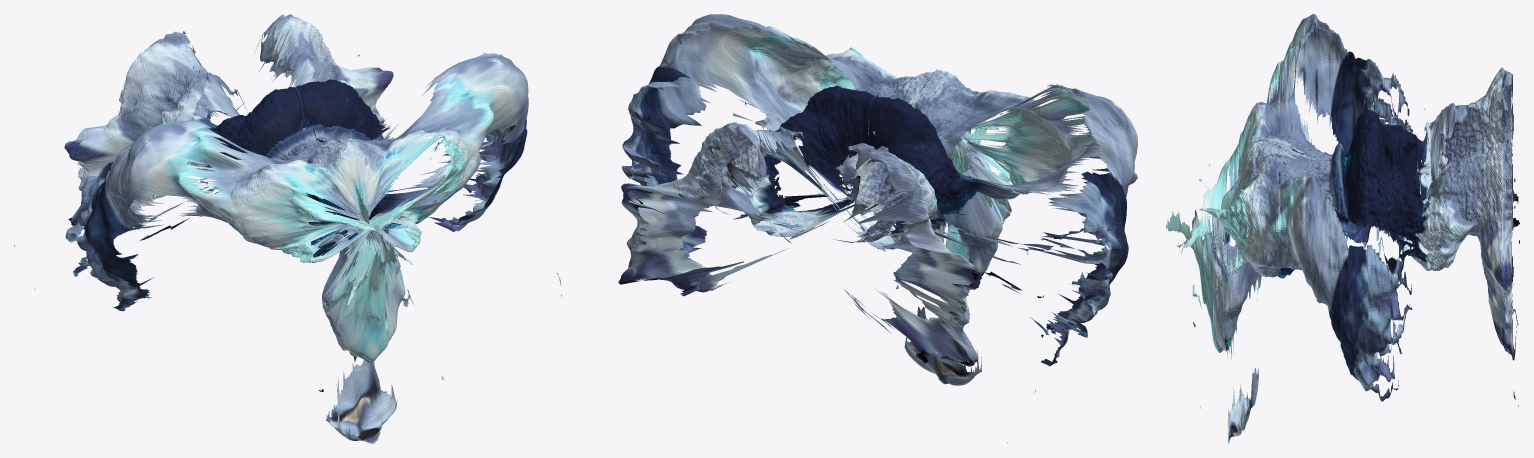
3 views of the same model, side by side, from view 1: azimuth 30°, elevation 25°; view 2: azimuth 150°, elevation 25°; view 3: azimuth 270°, elevation 25° (orthographic). The views are drawn at different scales.
Parts seen in each view (by area): view 1: geometry_0; view 2: geometry_0; view 3: geometry_0.
Boxes of the visible parts, left/top/right/bottom form: geometry_0: left=14, top=14, right=528, bottom=443; geometry_0: left=557, top=14, right=1137, bottom=442; geometry_0: left=1166, top=14, right=1519, bottom=443.
Size of the model in its own units: 1.96 by 1.42 by 1.33.
Materials: 1 (1 with a texture image).
